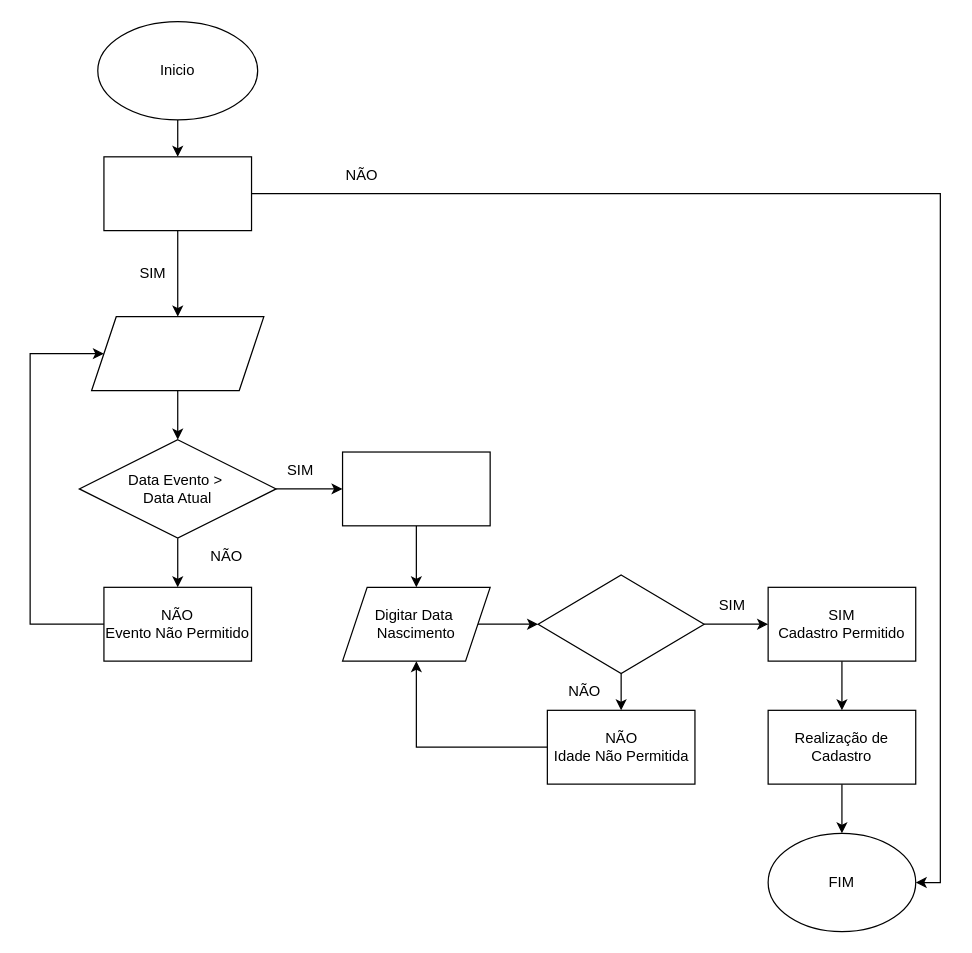
Some shapes in this 972 by 953 pixel diagram are drawn without their labels. The centre of each missing label's shape, as x and y in pixels:
"Digitar Data Evento" belongs at (x=177, y=353).
"Idade > 18" belongs at (x=620, y=623).
"SIM Evento Permitido" belongs at (x=415, y=488).
"Verificar Quantidade Participantes < 100" belongs at (x=177, y=193).
